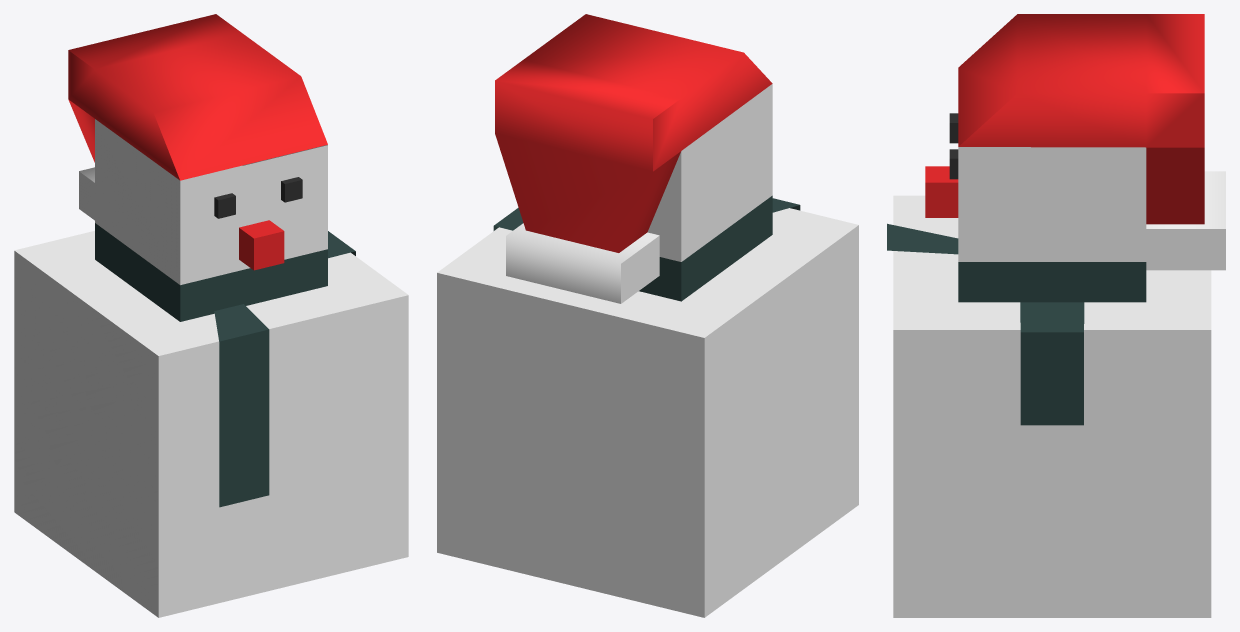
File: 034 Snow_man.fbx
3 renders of one model, left to right at view 1: azimuth 30°, elevation 25°; view 2: azimuth 150°, elevation 25°; view 3: azimuth 270°, elevation 25°, orthographic. The views are drawn at different scales.
Parts seen in each view (by area): view 1: Lowpoly_Christmas_Pack_034:pCube5; view 2: Lowpoly_Christmas_Pack_034:pCube5; view 3: Lowpoly_Christmas_Pack_034:pCube5.
Boxes of the visible parts, box(x1,y1,x2,y2) form: Lowpoly_Christmas_Pack_034:pCube5: box(14, 14, 408, 617); Lowpoly_Christmas_Pack_034:pCube5: box(437, 14, 858, 617); Lowpoly_Christmas_Pack_034:pCube5: box(887, 14, 1225, 617).
Size of the model in its own units: 1.53 by 2.59 by 1.6.
